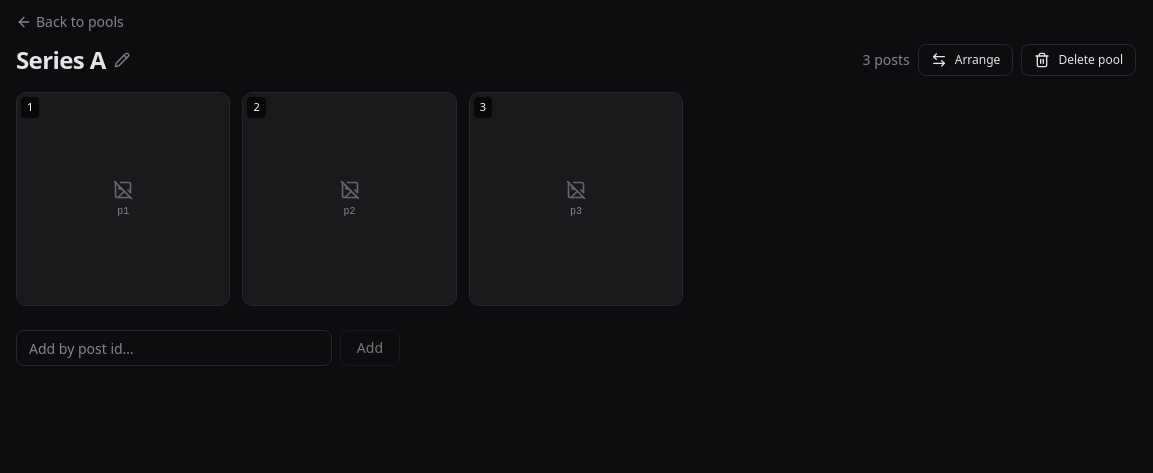
PoolView › a failed reorder rolls back and shows an attributed, dismissible error
expect the heading "Series A" is shown: met, box 16,44 -> 130,76
Click the button "Arrange": (966, 60) 918,44 -> 1013,76
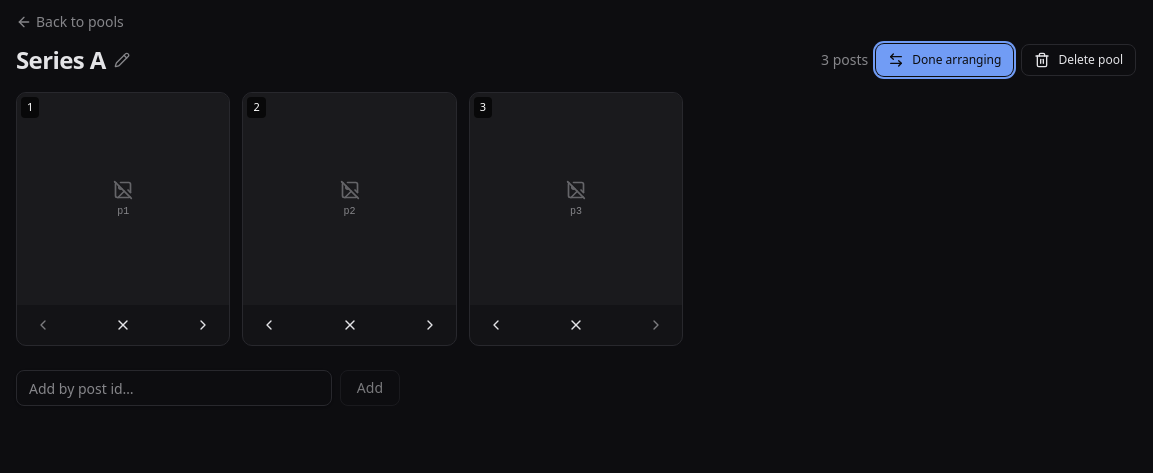
Click the button named "move post p2 earlier": (269, 325) 249,309 -> 289,341
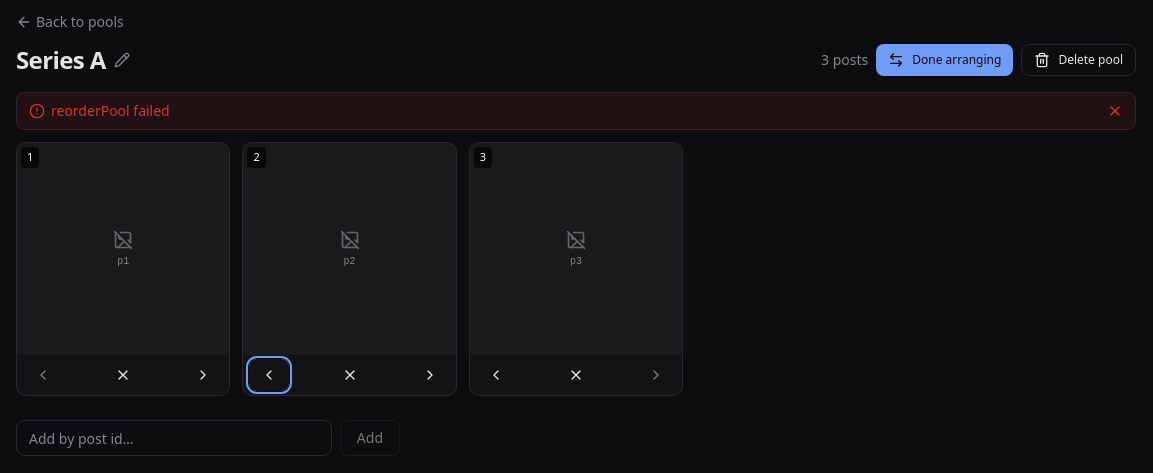
expect the button named "move post p1 earlier" is disabled: met, box 23,359 -> 63,391
expect the message "reorderPool failed" is shown: met, box 16,92 -> 1136,130
expect the text "reorderPool failed" is shown: met, box 51,101 -> 170,120
